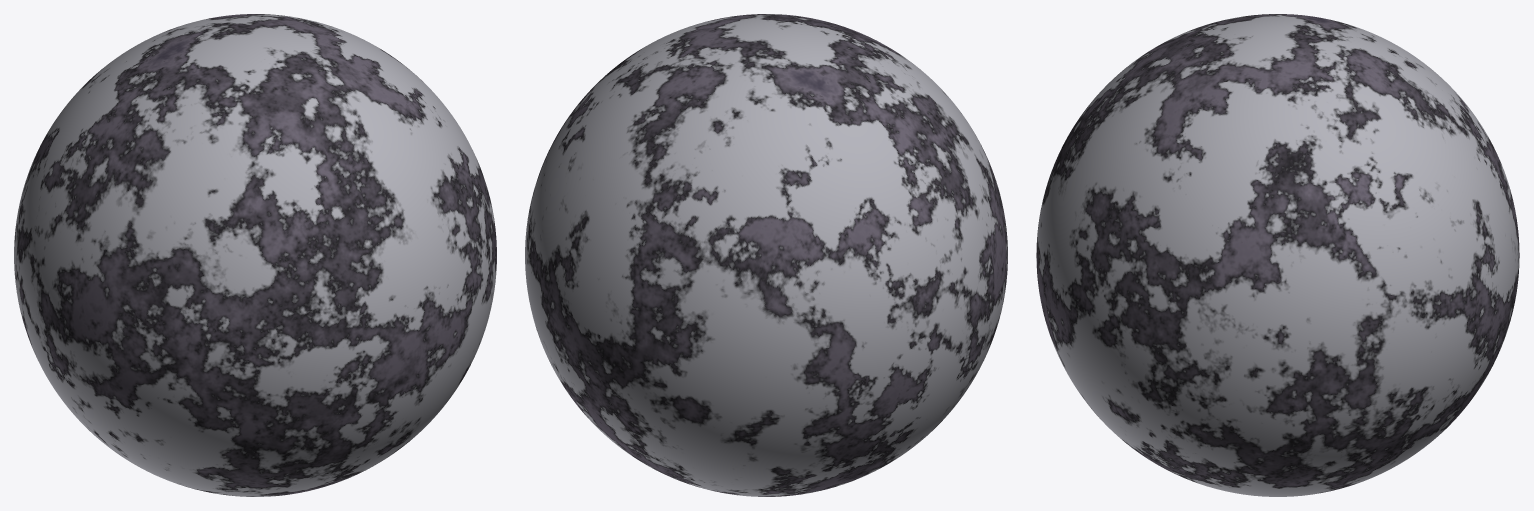
Rendered from Hielo.glb.
The picture shows the model from 3 angles, left to right: view 1: azimuth 30°, elevation 25°; view 2: azimuth 150°, elevation 25°; view 3: azimuth 270°, elevation 25°; orthographic projection.
Parts seen in each view (by area): view 1: Planet; view 2: Planet; view 3: Planet.
Part boxes in pixels (left/top/right/bottom): Planet: left=14, top=14, right=496, bottom=496; Planet: left=525, top=14, right=1007, bottom=496; Planet: left=1036, top=14, right=1519, bottom=496.
Size of the model in its own units: 2 by 2 by 2.
1 material, 1 textured.
